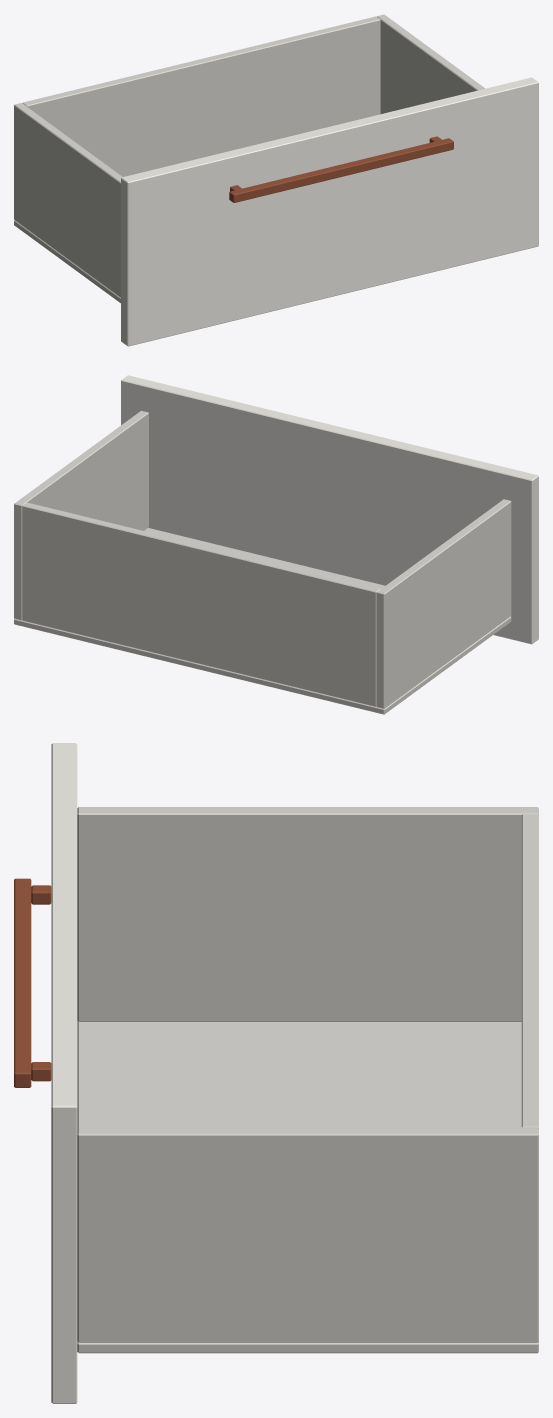
Rendered from base_cabinet_four_drawers_drawer_4.glb.
3 views of the same model, one above another, from view 1: azimuth 30°, elevation 25°; view 2: azimuth 150°, elevation 25°; view 3: azimuth 270°, elevation 25° (orthographic). The views are drawn at different scales.
Parts seen in each view (by area): view 1: base_cabinet_four_drawers_drawer_4; view 2: base_cabinet_four_drawers_drawer_4; view 3: base_cabinet_four_drawers_drawer_4.
Part boxes in pixels (left/top/right/bottom): base_cabinet_four_drawers_drawer_4: left=14, top=14, right=538, bottom=346; base_cabinet_four_drawers_drawer_4: left=14, top=375, right=538, bottom=714; base_cabinet_four_drawers_drawer_4: left=14, top=743, right=538, bottom=1403.
Size of the model in its own units: 0.597 by 0.228 by 0.364.
